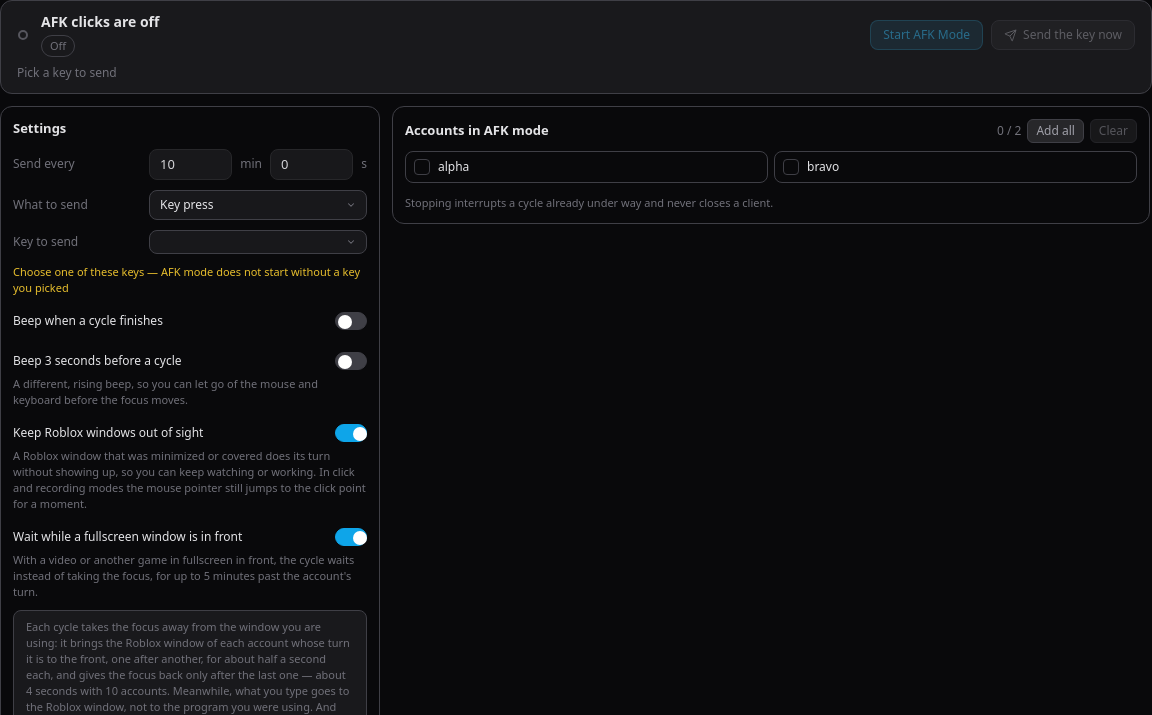
it: ClicksTab — pares de setas que se anulam › oferece os pares com uma frase que diz o que fazem
Click the button named "Key to send": (258, 242) x1=149 y1=230 x2=367 y2=254
(page scrolled)
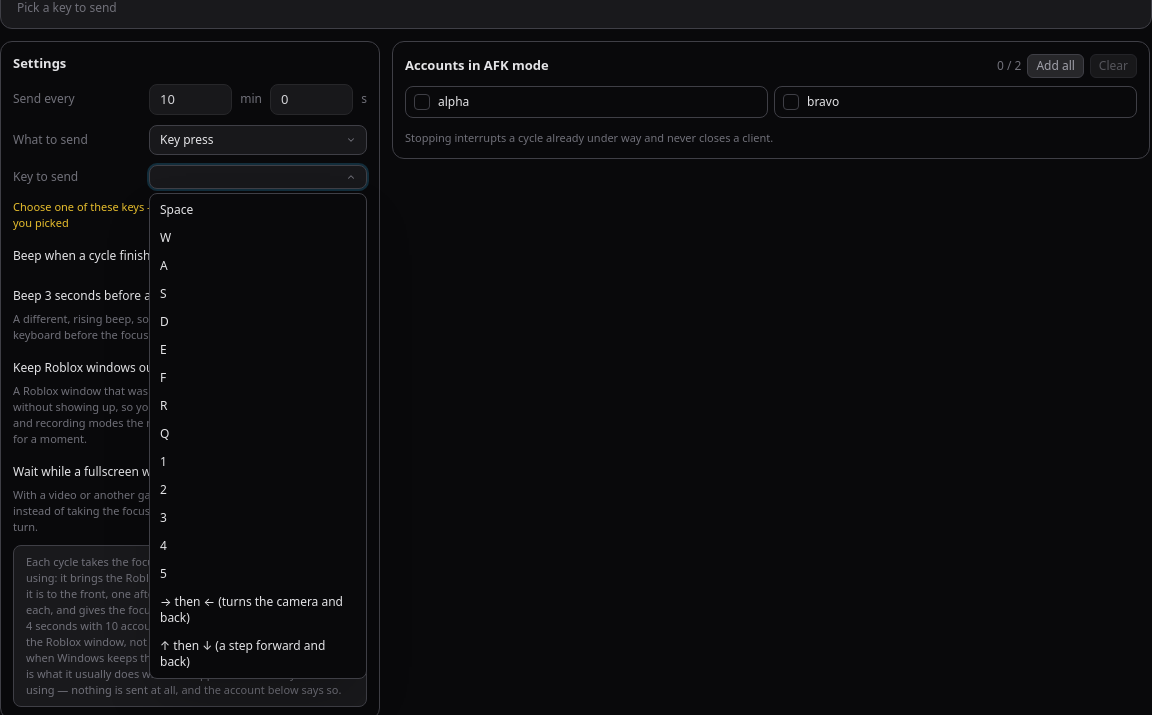
Expected: the button "→ then ← (turns the camera and back)" is shown, x1=150 y1=588 x2=366 y2=632
Expected: the button "↑ then ↓ (a step forward and back)" is shown, x1=150 y1=632 x2=366 y2=676
